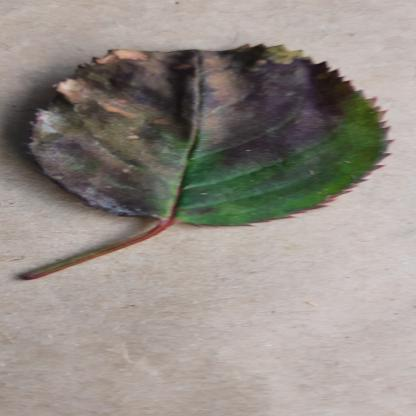powdery-mildew: (34, 45, 402, 227)
